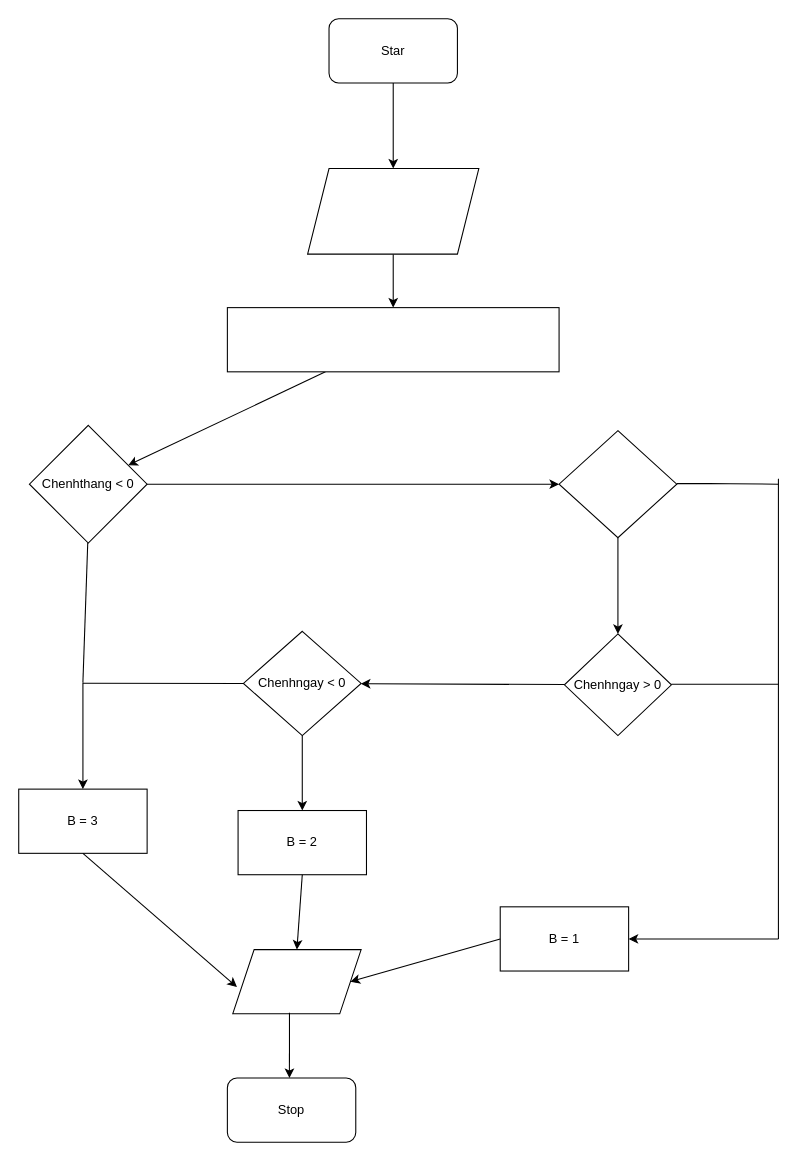
The diagram is 806 pixels wide and 1161 high, and some of its shapes have lost their labels. The shapes that lost their labels are listed below. From the top down, each one's centre as x and y in pixels, then its label:
point (393, 210): Input D1,M1,Y1,D2,M2,Y2
point (392, 339): Chenhthang = M1 - M2 + (Y1 - Y2)*12 Chenhngay = D1 - D2
point (617, 484): Chenhthang > 0
point (296, 981): Print B
